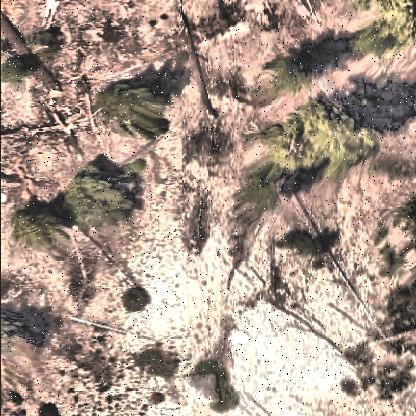tree-top: (264, 89, 384, 177), (98, 68, 178, 145), (62, 156, 143, 229), (358, 1, 416, 69), (266, 47, 318, 98), (13, 204, 66, 253), (241, 170, 285, 210), (1, 56, 27, 90), (285, 232, 321, 256)
